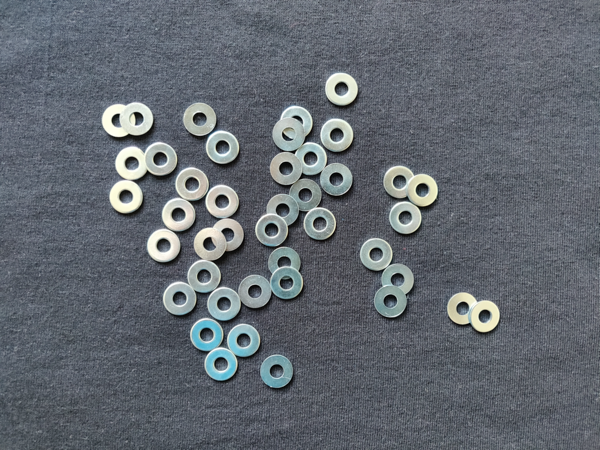circle: (181, 102, 221, 139), (237, 273, 275, 311), (387, 200, 424, 239), (206, 285, 243, 324), (373, 284, 409, 324), (108, 179, 144, 218), (259, 353, 296, 390), (324, 73, 361, 110), (445, 292, 482, 328), (319, 117, 356, 153), (185, 259, 223, 294), (286, 178, 324, 213), (228, 324, 264, 360), (119, 101, 155, 137), (278, 104, 314, 140), (319, 163, 355, 199), (147, 228, 182, 265), (204, 128, 239, 165), (304, 207, 341, 242), (265, 193, 302, 228), (383, 164, 417, 202), (160, 198, 198, 232), (382, 262, 417, 298), (359, 237, 394, 273), (101, 103, 137, 138), (174, 167, 210, 202), (144, 140, 177, 178), (189, 319, 225, 353), (205, 348, 239, 383), (205, 186, 240, 220), (255, 214, 289, 249), (269, 267, 305, 300), (212, 219, 248, 252), (268, 153, 302, 187), (162, 283, 197, 316), (271, 119, 305, 152), (293, 142, 327, 175), (193, 228, 228, 260), (114, 148, 149, 180), (407, 172, 438, 208), (269, 246, 302, 279), (471, 300, 501, 333)
